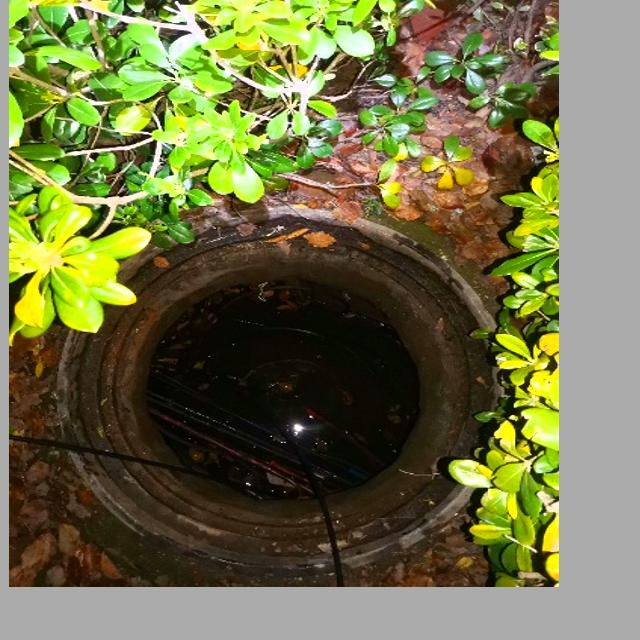lose: (55, 203, 525, 572)
